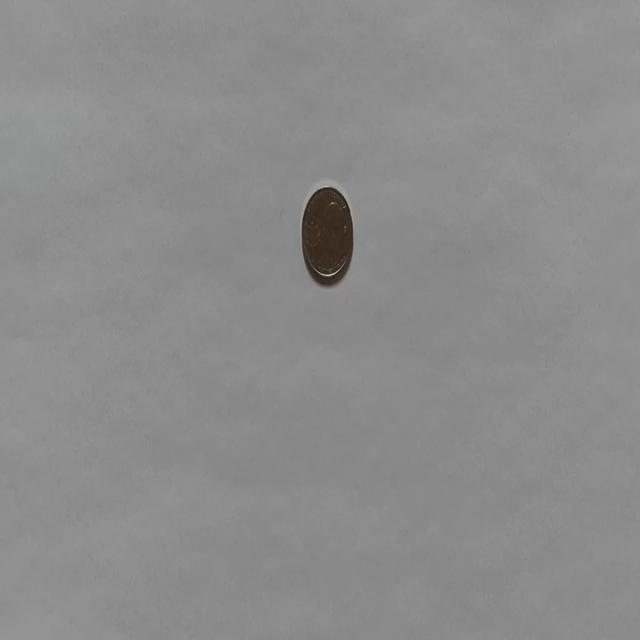seribu rupiah koin: (300, 184, 354, 282)
